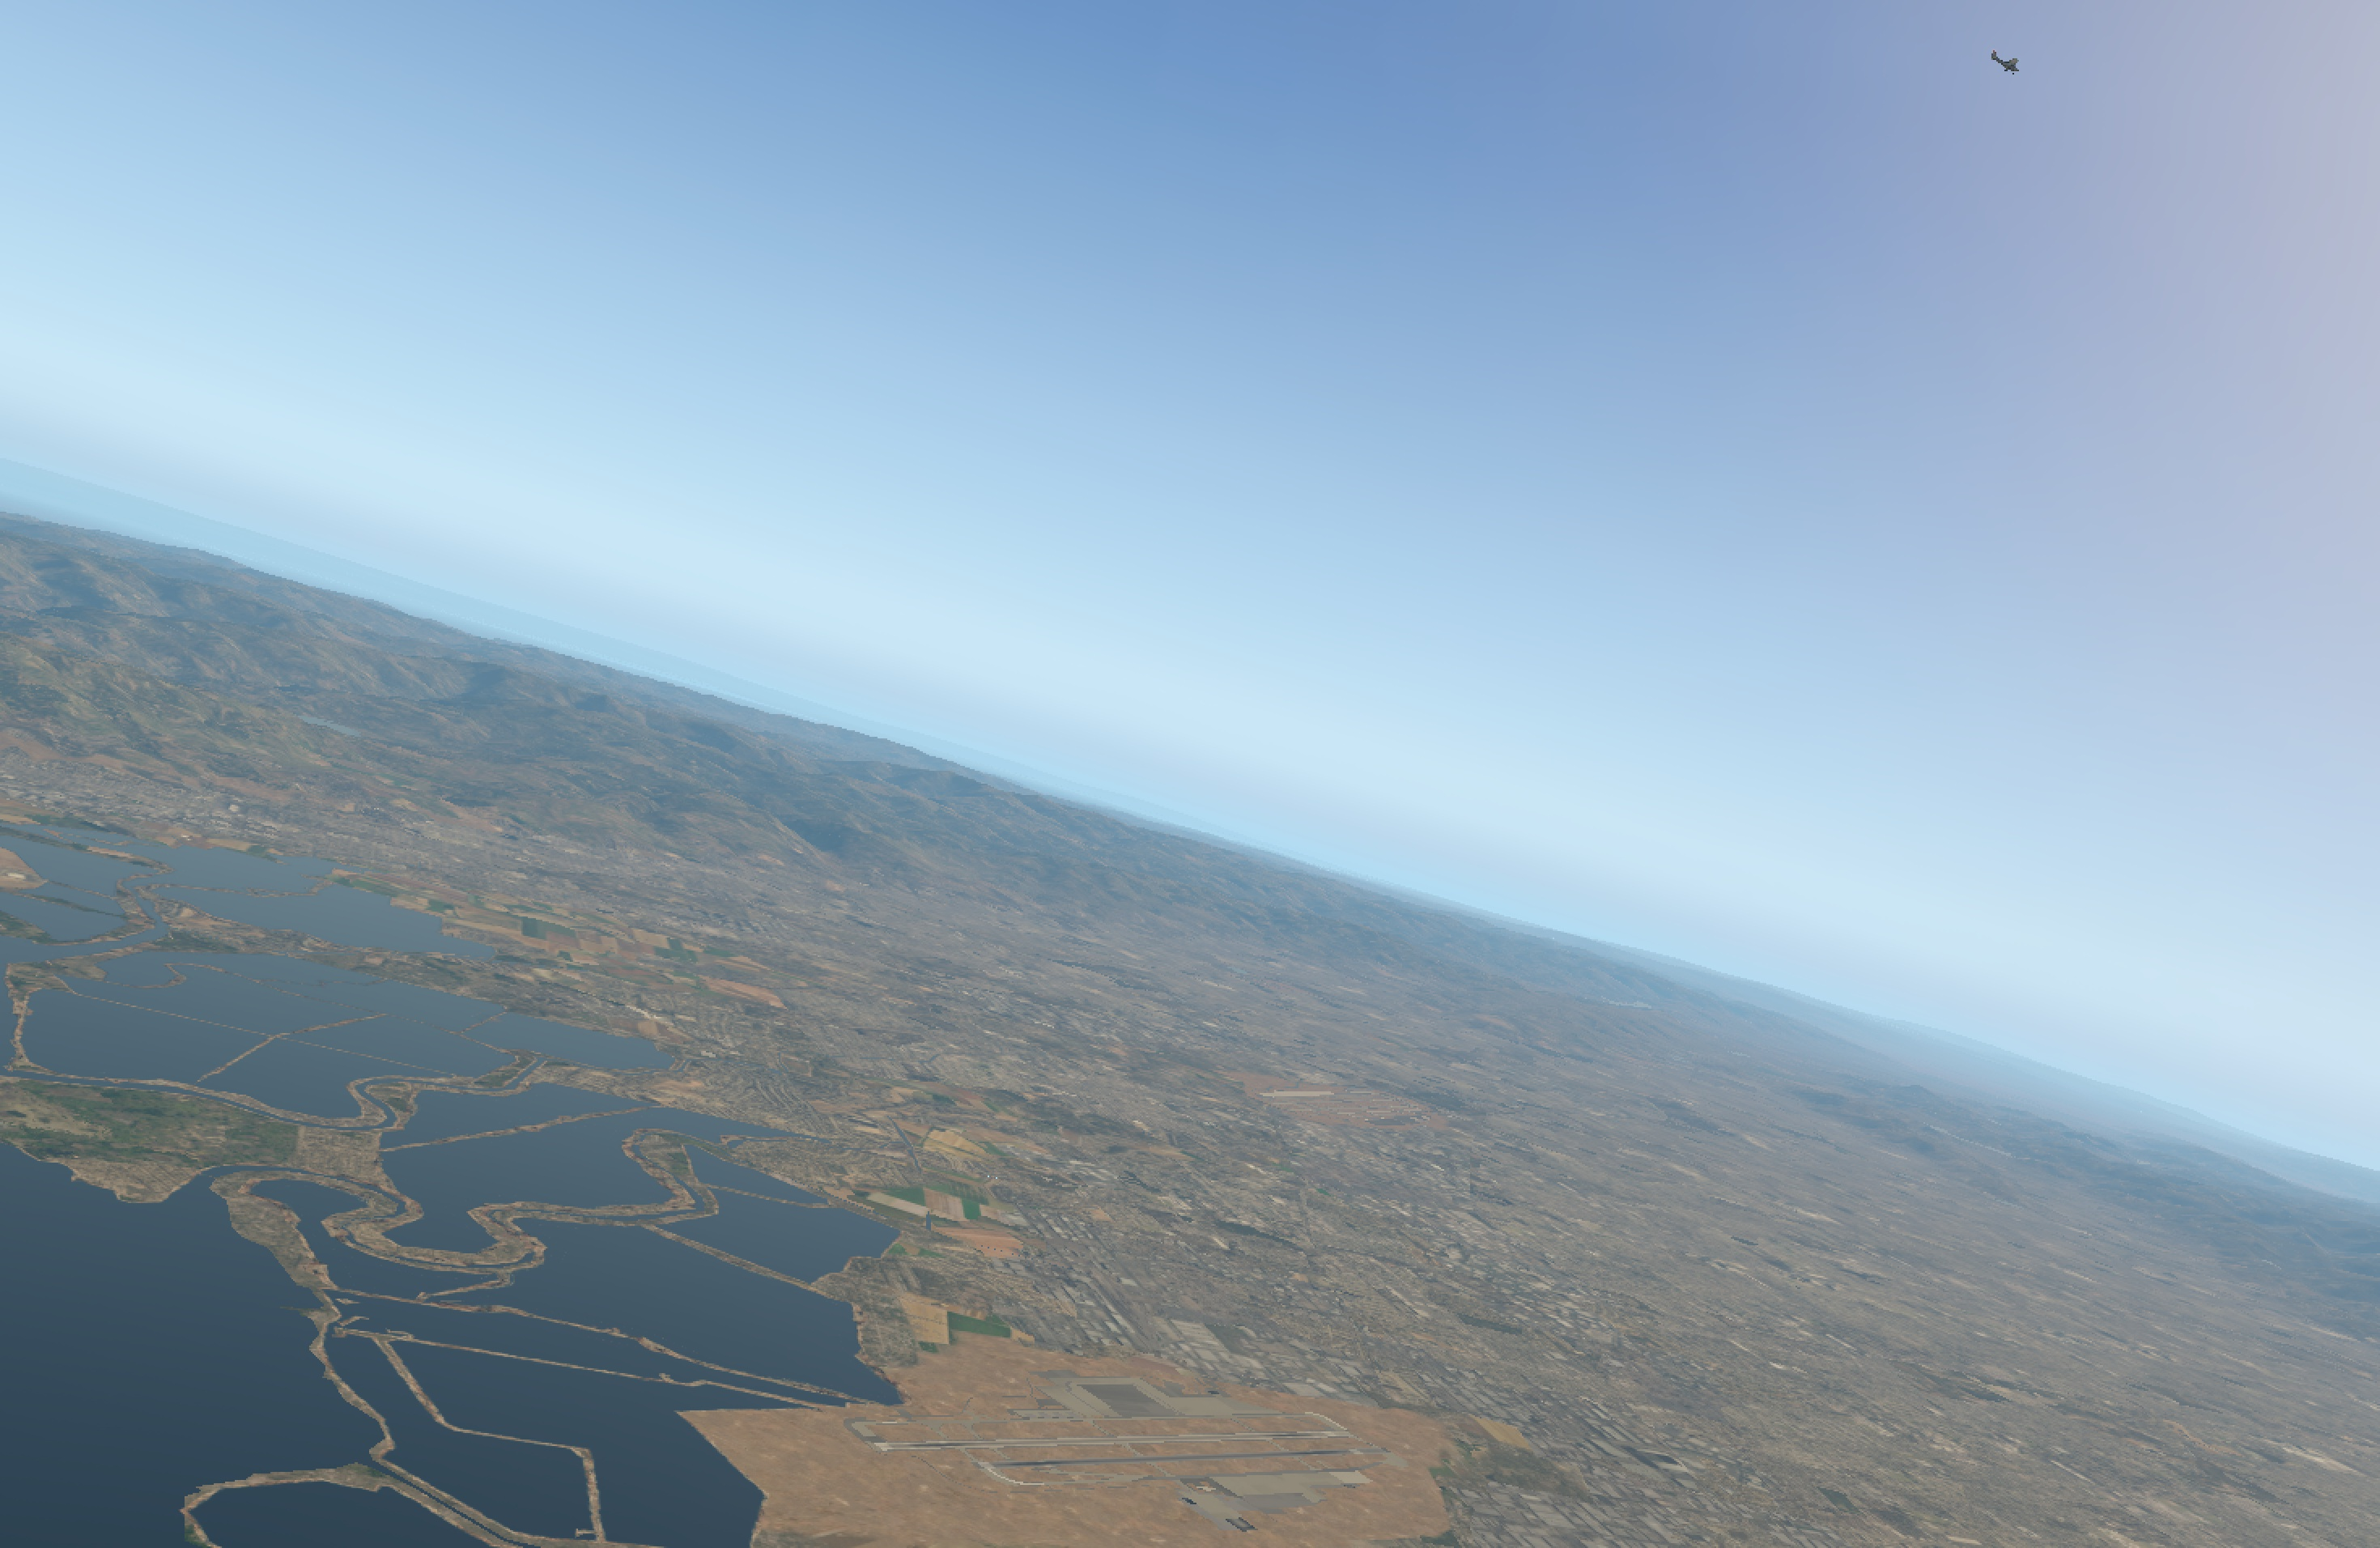aircraft: (1997, 61, 2024, 71)
